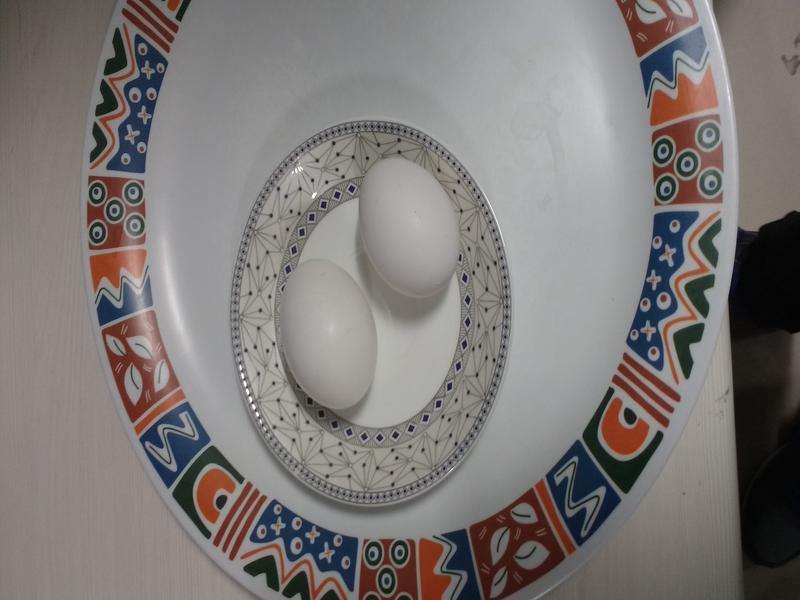egg: (281, 255, 387, 408)
